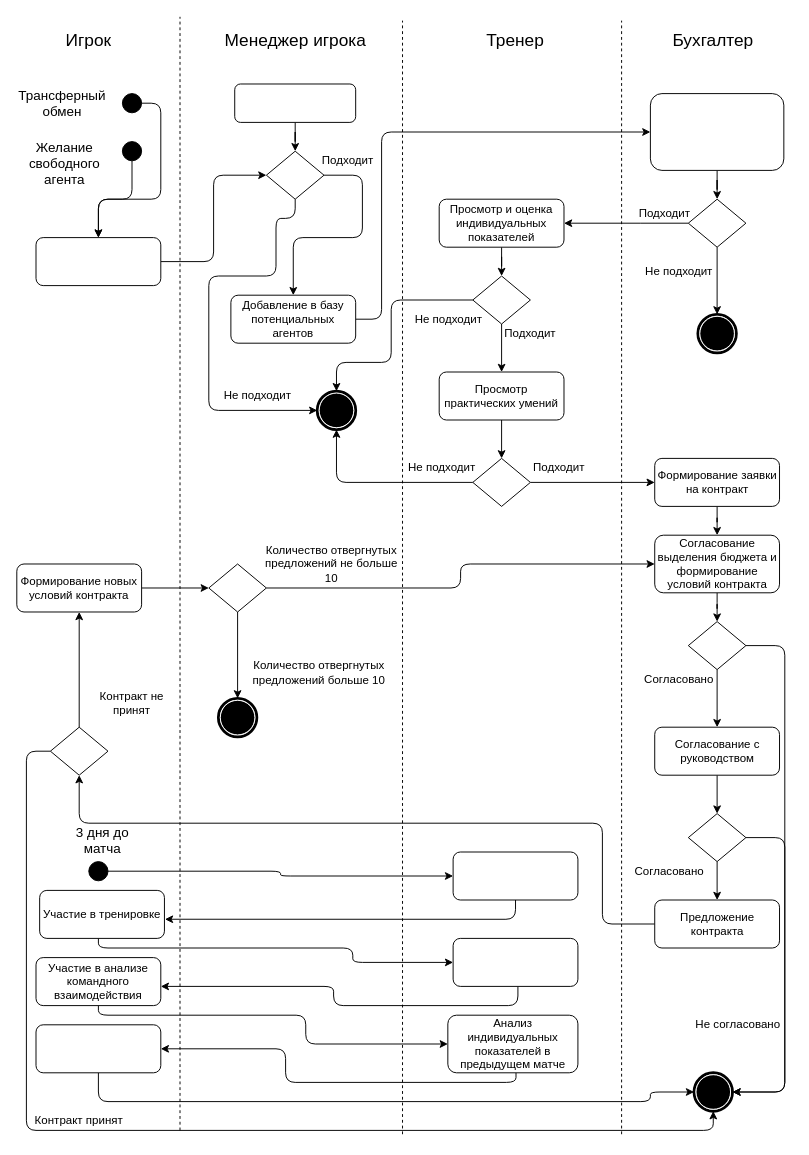
The diagram is 809 pixels wide and 1155 high, and some of its shapes have lost their labels. Here are the shapes that lost their labels. From the top down, the centre of each, then its label:
(x=295, y=102): Изучение личного дела игрока
(x=716, y=131): Сопоставление с бюджетом, расчёт экономической целесообразности и рисков
(x=98, y=261): Формирование условий контракта
(x=515, y=875): Проведение предматчевых тренировок
(x=515, y=961): Анализ командного взаимодействия в предыдущих матчах
(x=98, y=1048): Участие в анализе индивидуальных показателей
